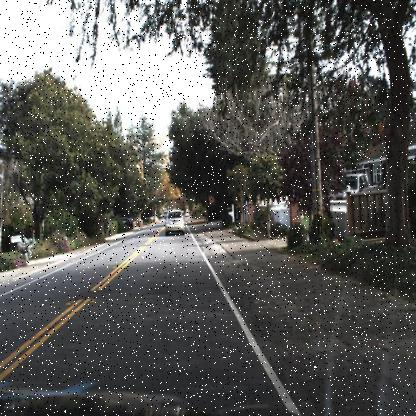car: (325, 165, 381, 220), (162, 206, 187, 239)
